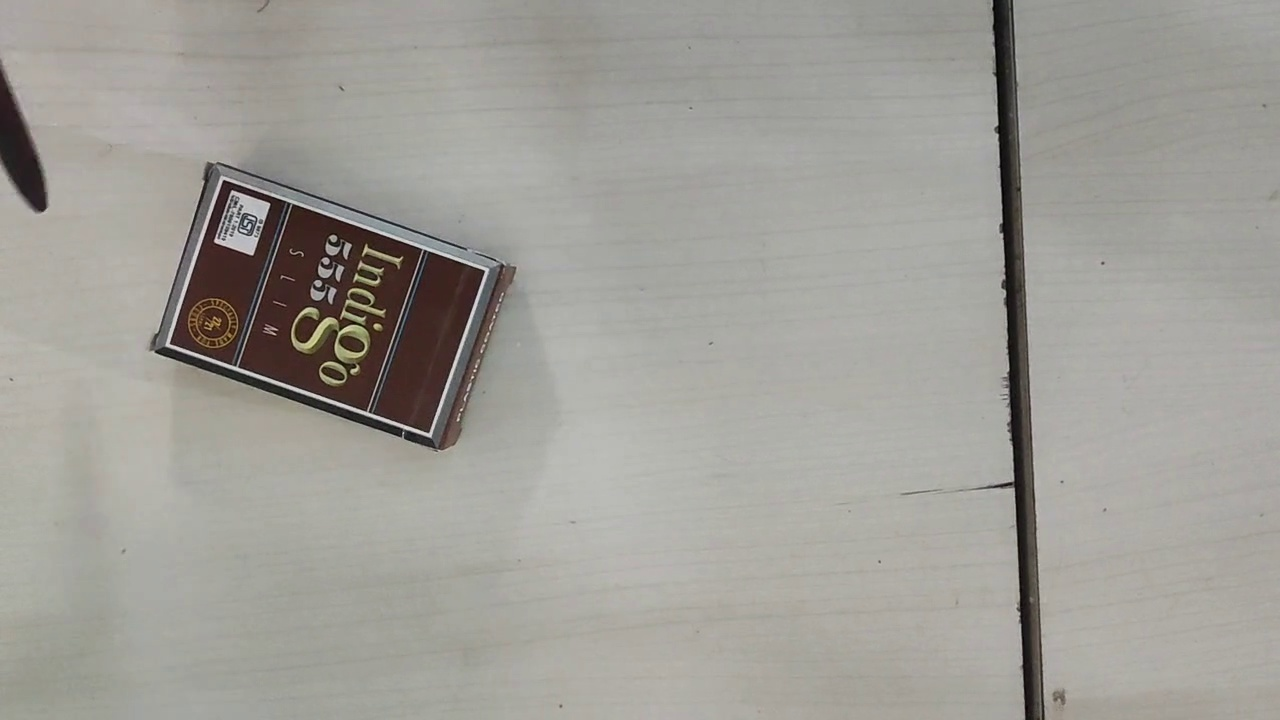BEX: (167, 175, 486, 433)
